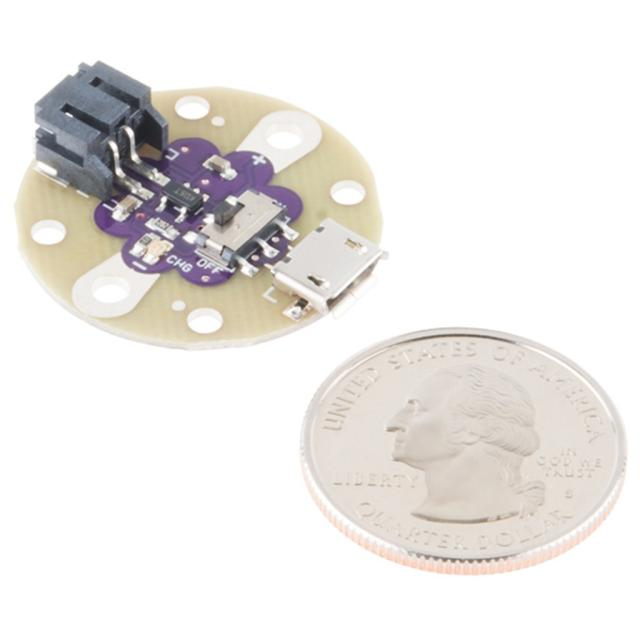Coin: (298, 329, 629, 577)
